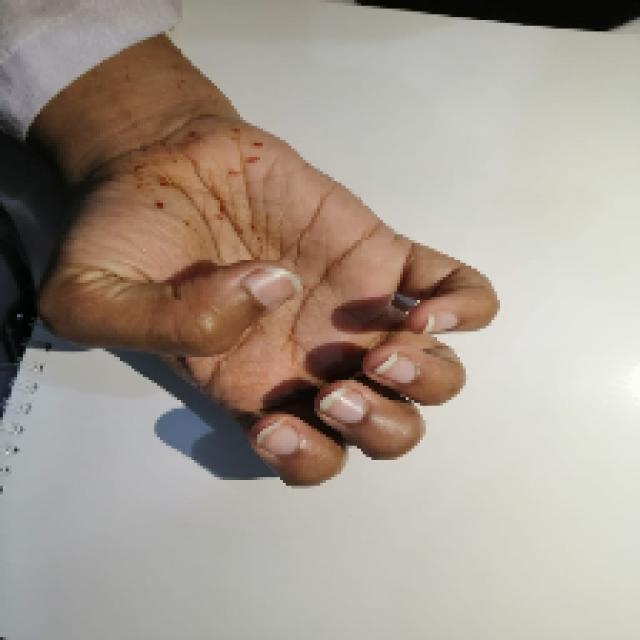Nail: (242, 266, 301, 309), (319, 388, 368, 424), (256, 421, 300, 455), (376, 352, 418, 384), (424, 311, 459, 332)
